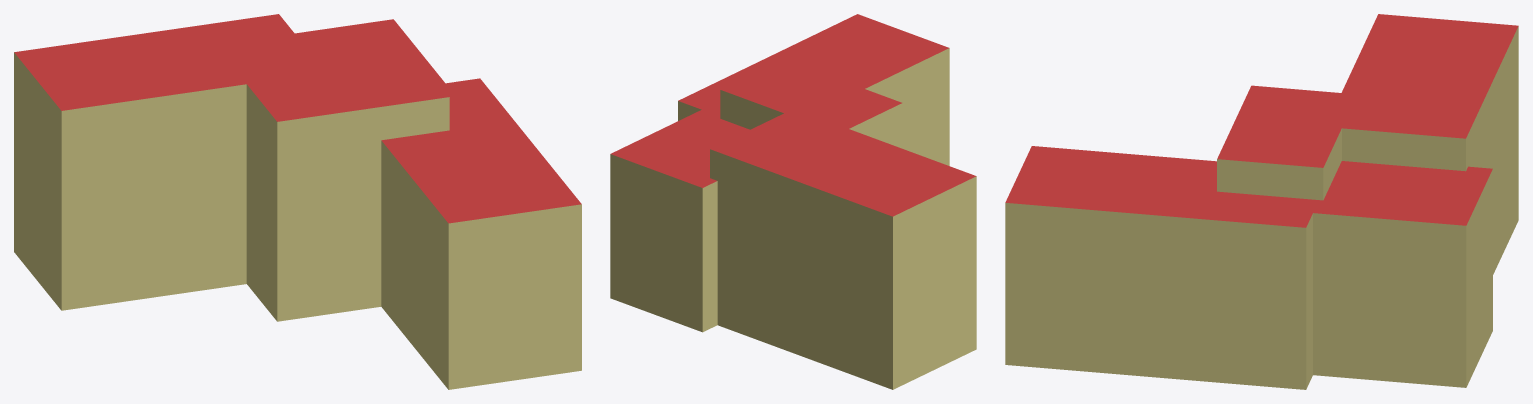
3 renders of one model, left to right at view 1: azimuth 30°, elevation 25°; view 2: azimuth 150°, elevation 25°; view 3: azimuth 270°, elevation 25°, orthographic. The views are drawn at different scales.
Bounding box in the file's own units: 16.38 × 19.6 × 8.2.
